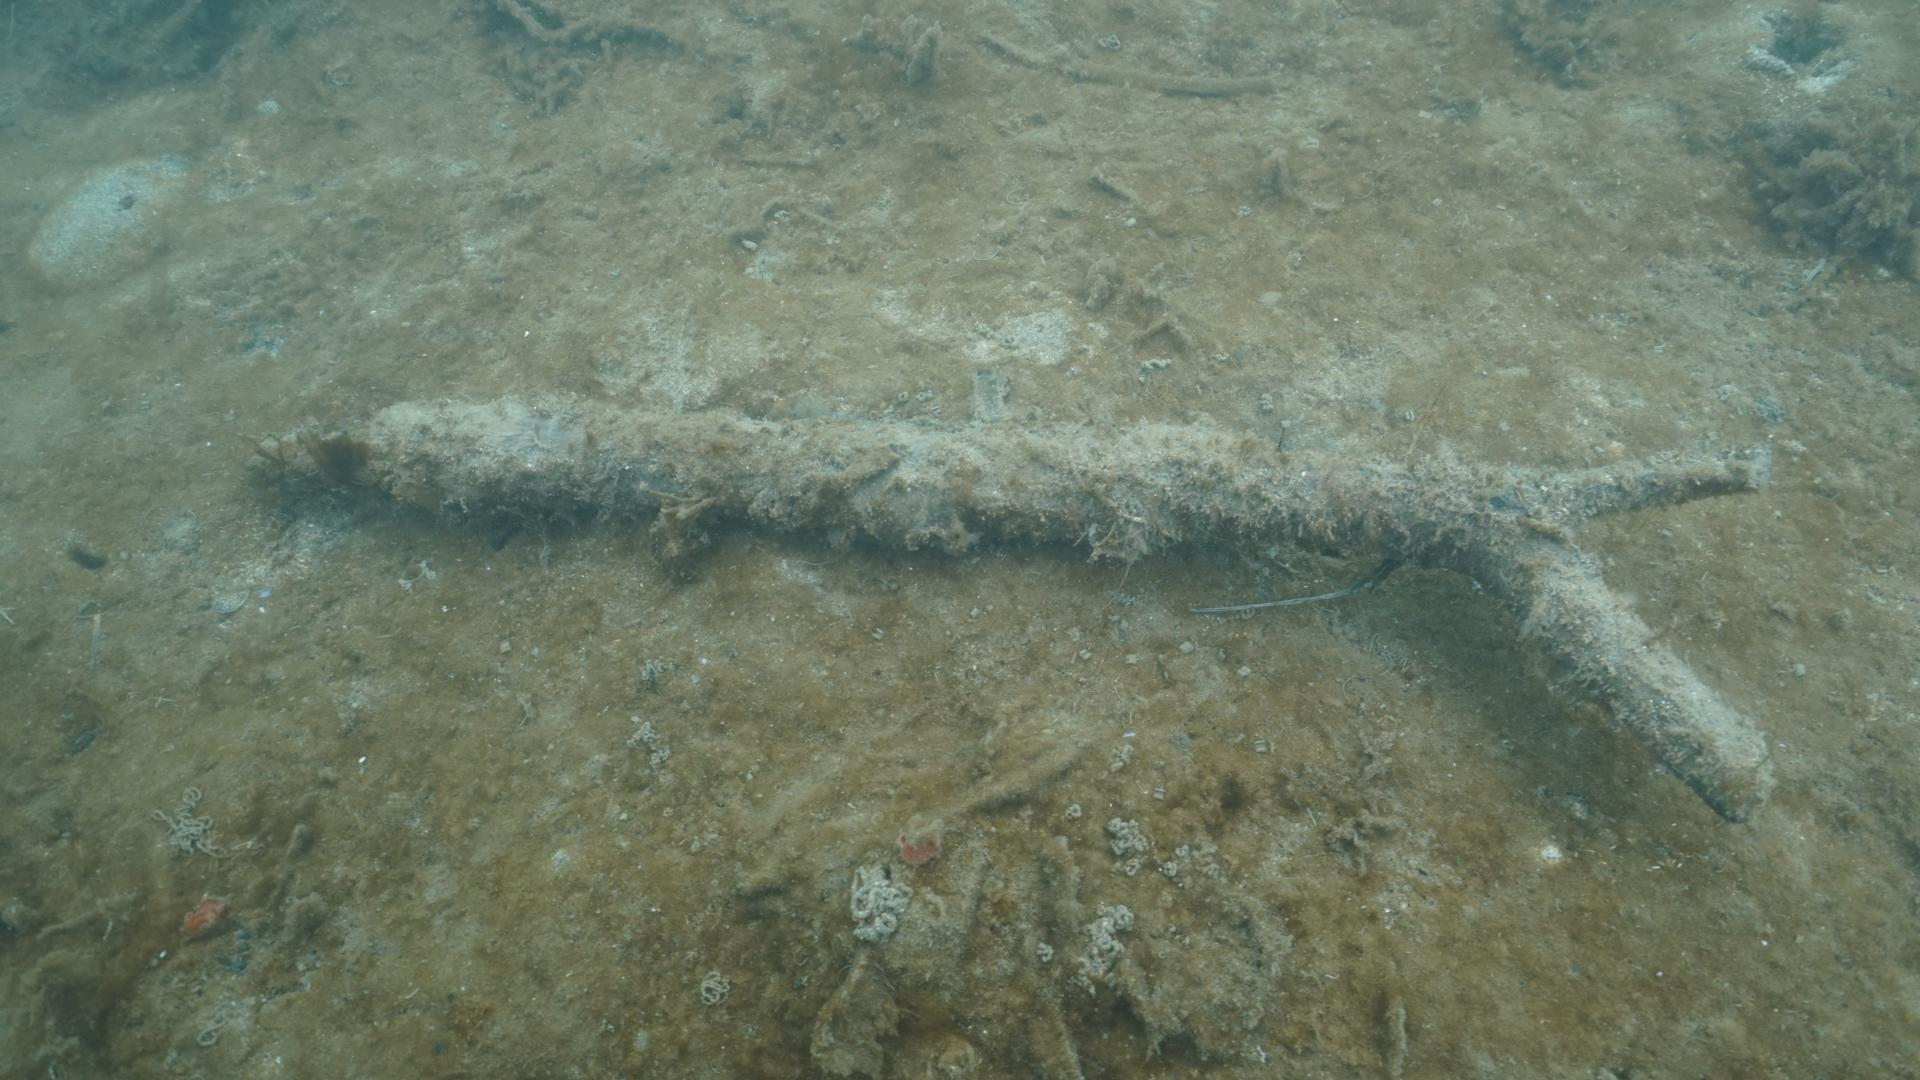wood: (255, 398, 1772, 829)
